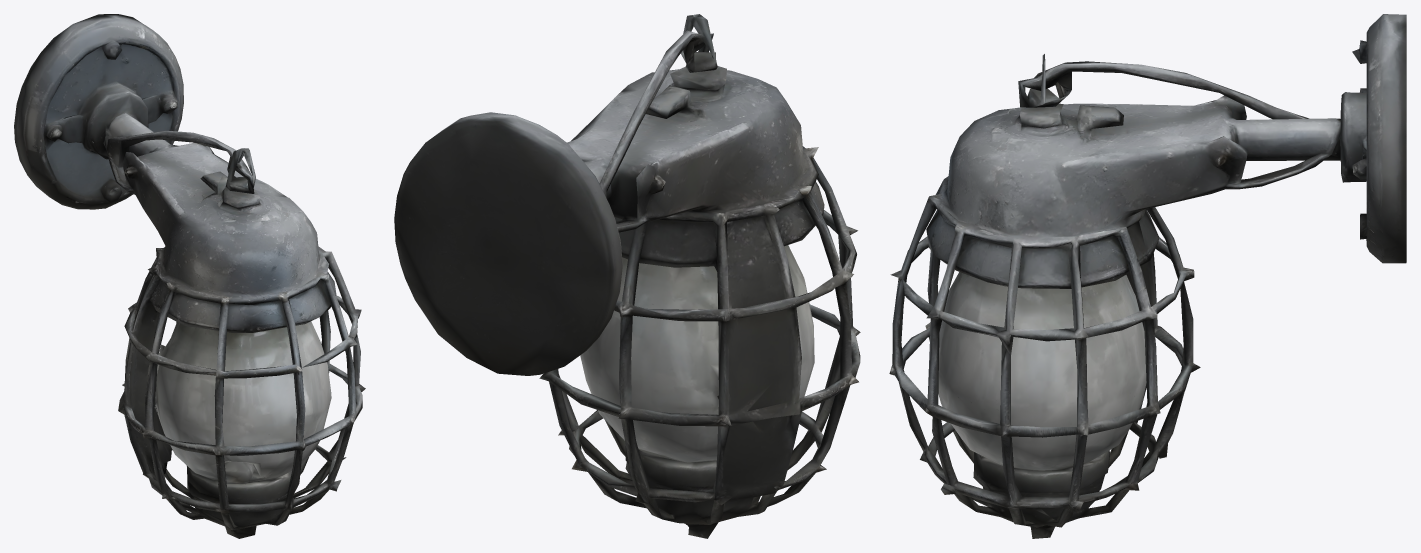
File: lamp_bulkhead.fbx
3 renders of one model, left to right at view 1: azimuth 30°, elevation 25°; view 2: azimuth 150°, elevation 25°; view 3: azimuth 270°, elevation 25°, orthographic. The views are drawn at different scales.
Parts seen in each view (by area): view 1: lamp_bulkhead; view 2: lamp_bulkhead; view 3: lamp_bulkhead.
Part boxes in pixels (left/top/right/bottom): lamp_bulkhead: left=14, top=14, right=365, bottom=538; lamp_bulkhead: left=394, top=14, right=860, bottom=538; lamp_bulkhead: left=889, top=14, right=1406, bottom=538.
Bounding box in the file's own units: 0.18 × 0.3276 × 0.3002.
1 material, 1 textured.
